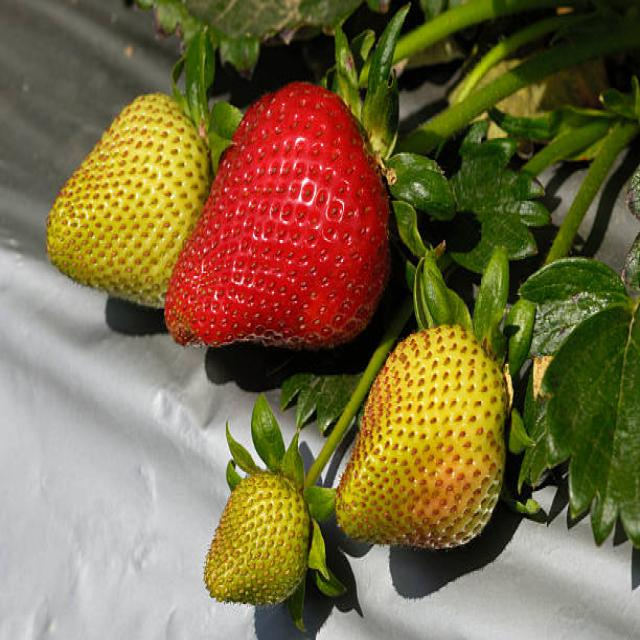Healthy Fruit: (165, 81, 395, 352), (335, 324, 507, 552), (48, 92, 215, 309), (202, 475, 310, 609)
